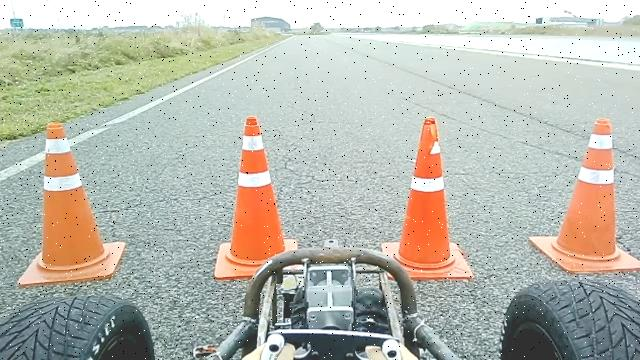red cone: (17, 121, 125, 287), (528, 116, 639, 274), (382, 116, 474, 281), (214, 114, 298, 281)
